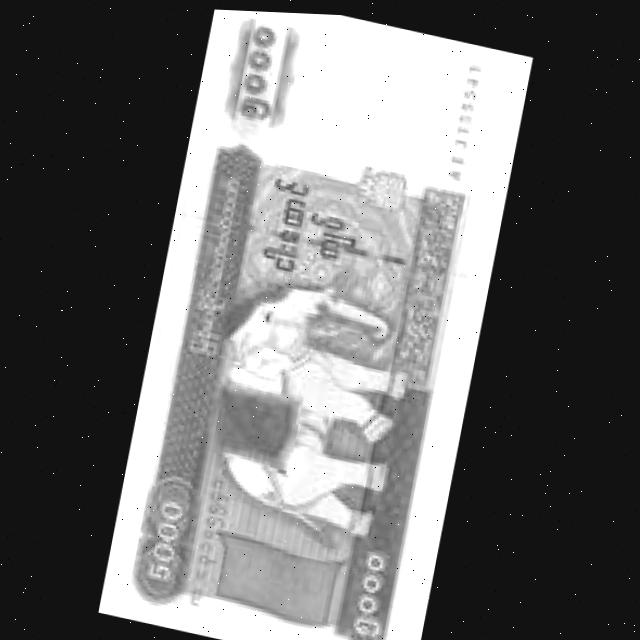banknote: (99, 4, 530, 640)
